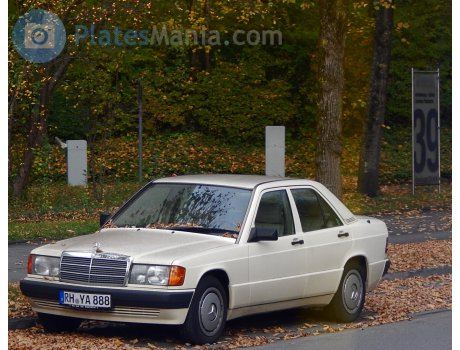License Plates: (64, 290, 106, 300)
